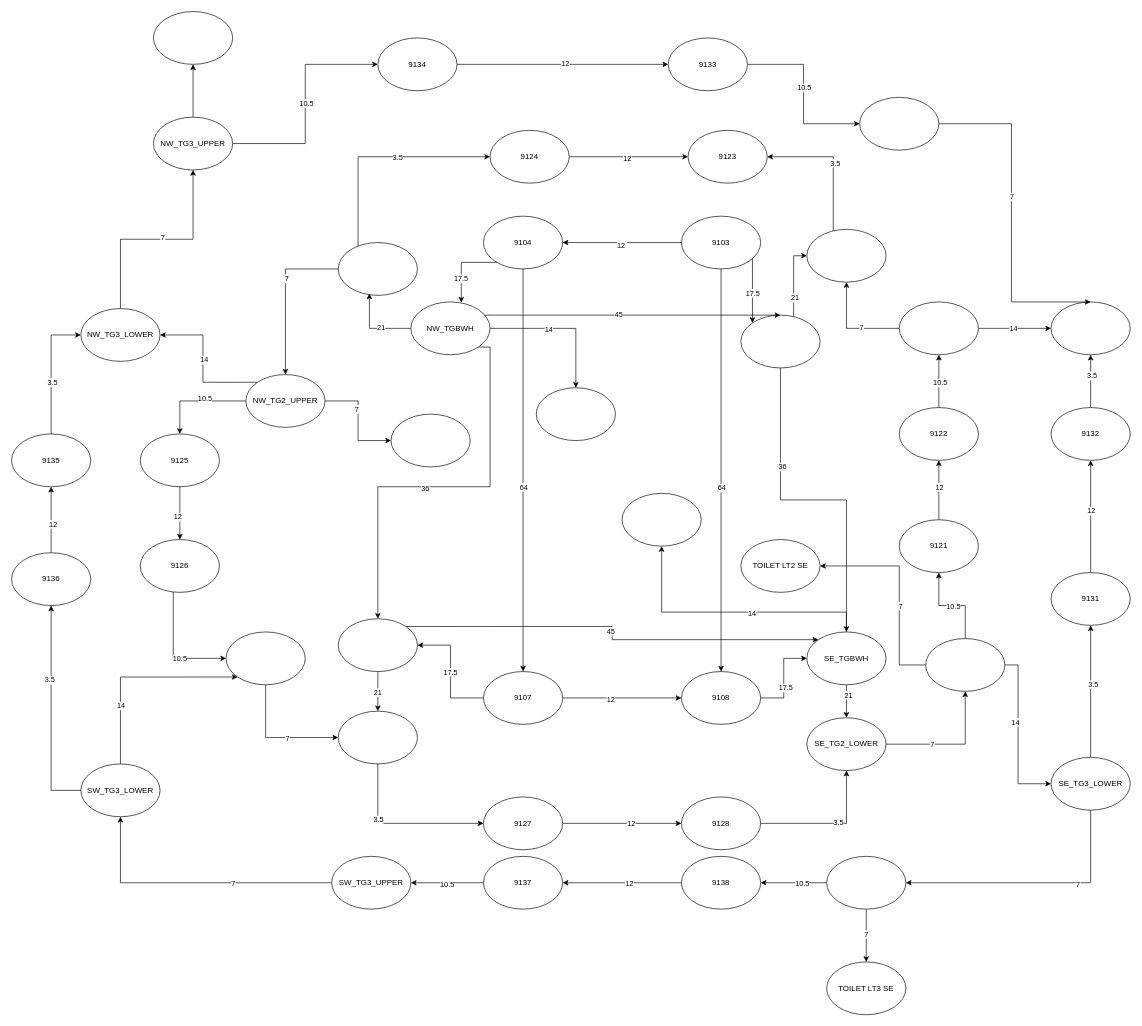
Image size: 1142x1026. Some labels were removed from this diagram. The centre of each missing label's shape, as x and y in pixels:
NE_TG2_LOWER: the point at 846,255
NE_TG2_UPPER: the point at 938,328
NE_TG3_LOWER: the point at 1090,328
NE_TG3_UPPER: the point at 899,123
NE_TGBWH: the point at 780,341
NW_TG2_LOWER: the point at 377,268
SE_TG2_UPPER: the point at 965,664
SE_TG3_UPPER: the point at 866,882
SW_TG2_LOWER: the point at 377,737
SW_TG2_UPPER: the point at 265,658
SW_TGBWH: the point at 377,645
TOILET LT2 NW: the point at 430,440
TOILET LT3 NW: the point at 193,37
TOILET NW 1,5: the point at 575,414
TOILET SE 1,5: the point at 661,519
